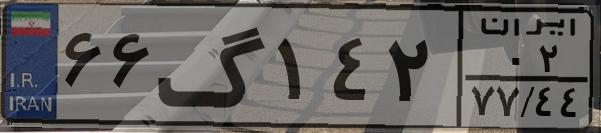0: (508, 27, 537, 80)
1: (270, 28, 330, 110)
2: (385, 28, 445, 110), (537, 27, 568, 80)
4: (330, 28, 385, 110), (560, 70, 590, 125), (535, 70, 560, 125)
6: (57, 26, 110, 100), (110, 28, 156, 98)
7: (470, 70, 495, 125), (495, 70, 520, 125)
گ: (156, 12, 270, 120)
